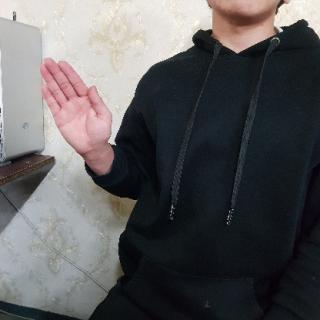SEEN: (36, 53, 114, 159)
